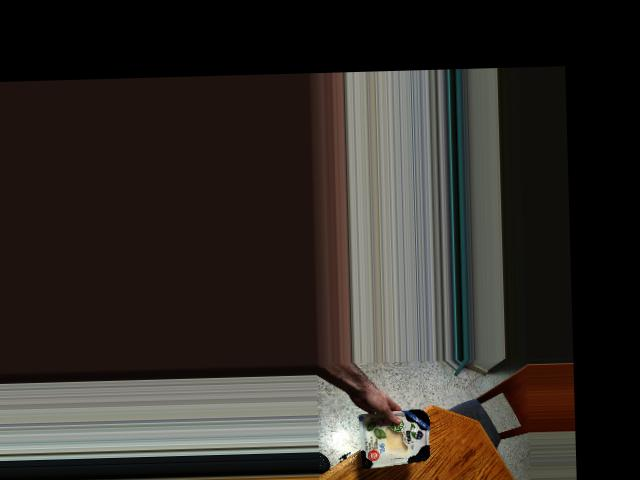cheese: (346, 411, 442, 468)
